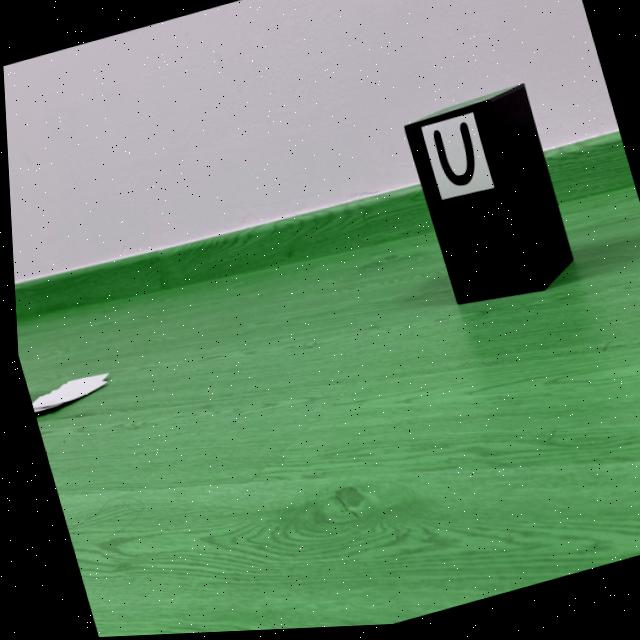U: (431, 125, 473, 190)
